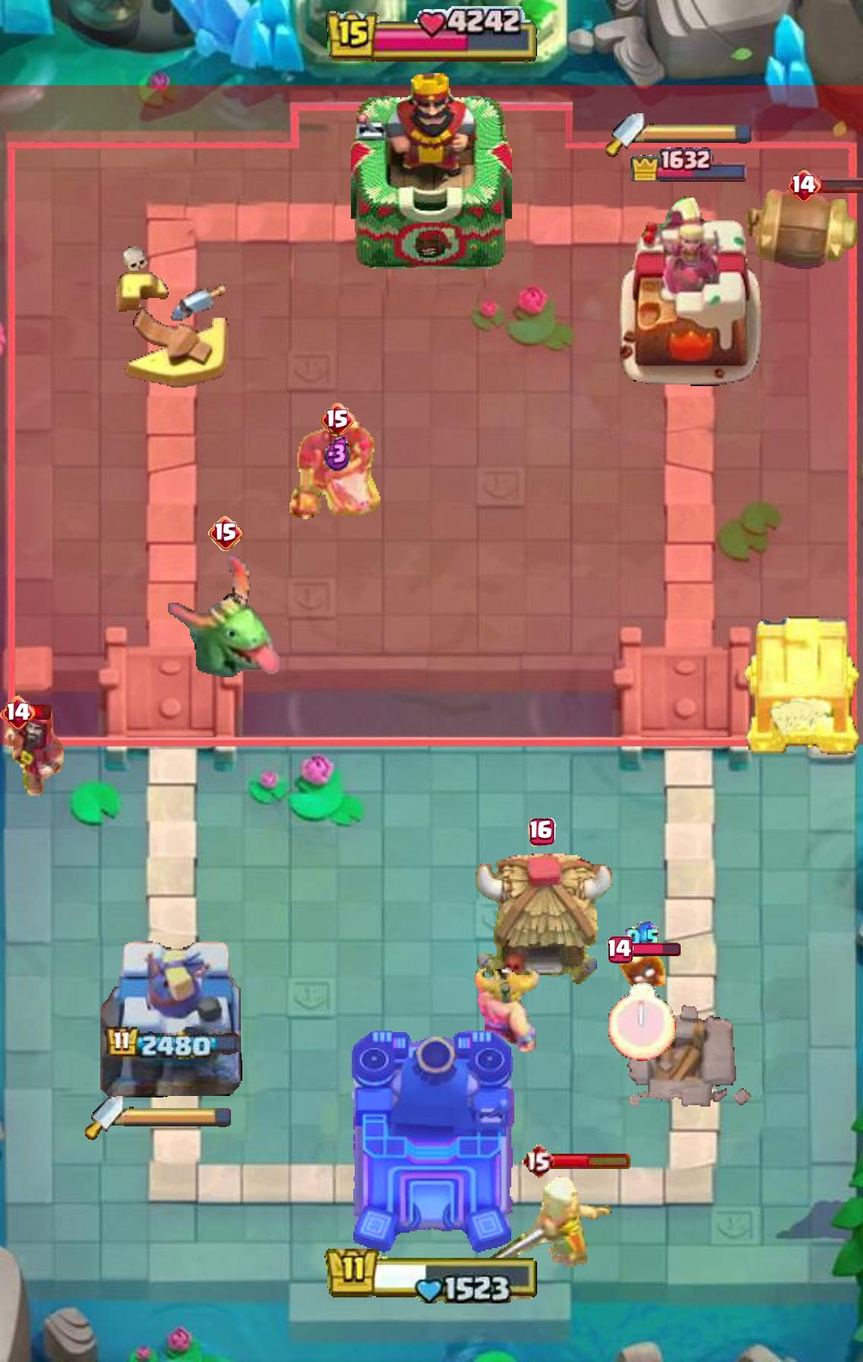bar: (551, 1151, 631, 1170), (817, 176, 863, 194), (629, 943, 681, 957), (27, 704, 53, 721)
bar-level: (521, 1142, 555, 1179), (208, 516, 243, 551), (0, 696, 36, 730), (319, 403, 356, 436), (788, 168, 821, 203), (528, 818, 556, 847), (607, 936, 633, 964)
